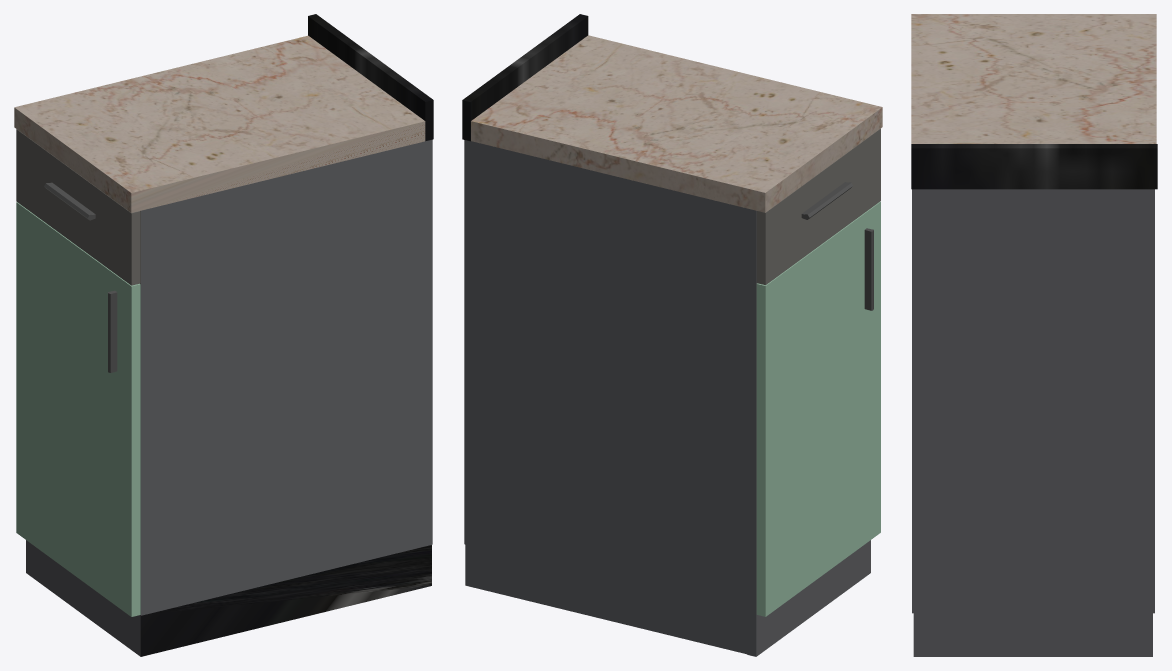
File: table_cook_1.fbx
3 renders of one model, left to right at view 1: azimuth 30°, elevation 25°; view 2: azimuth 150°, elevation 25°; view 3: azimuth 270°, elevation 25°, orthographic. The views are drawn at different scales.
Parts seen in each view (by area): view 1: table_cook_1; view 2: table_cook_1; view 3: table_cook_1.
Boxes of the visible parts, <box> form: table_cook_1: <box>14,14,433,656</box>; table_cook_1: <box>462,14,882,656</box>; table_cook_1: <box>911,14,1157,656</box>.
Bounding box in the file's own units: 17.51 × 11.52 × 26.3.
Materials: 6 (2 with a texture image).
